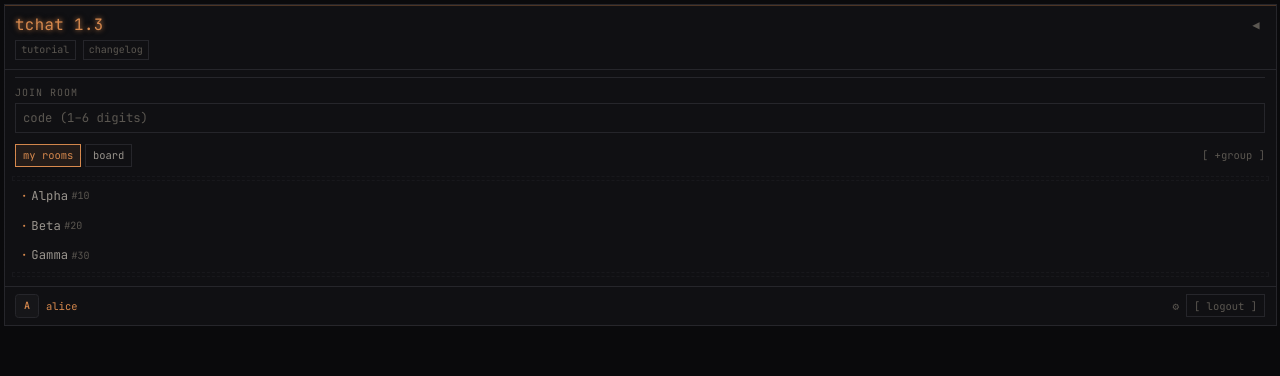
End-zone drop areas — non-admin on board tab › hides start and end drop zones for non-admin on board tab
This screenshot has width=1280, height=376.
Click the button with test id "tab-board" at (109, 155), box [85,144,132,167]
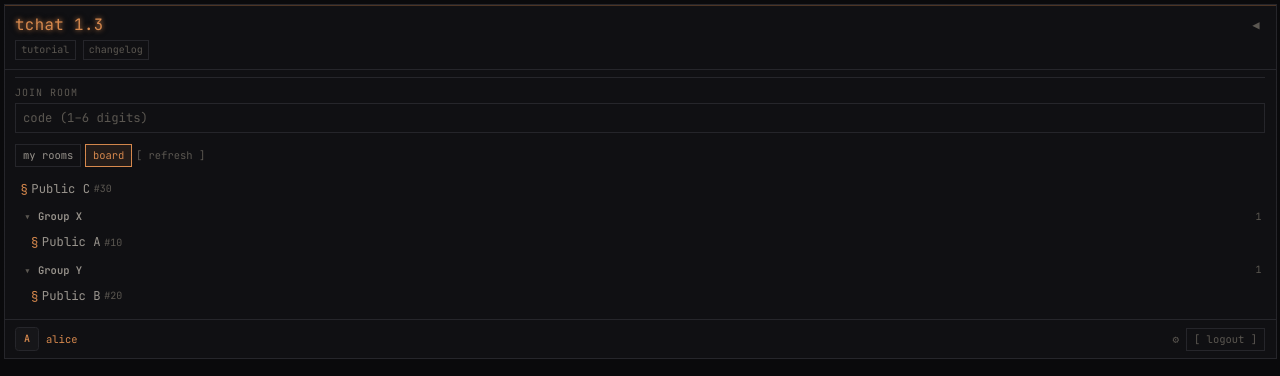
Check: the button with test id "public-room-30" is shown, box [20,181,112,197]
Check: the element with test id "drop-zone-end" is gone
